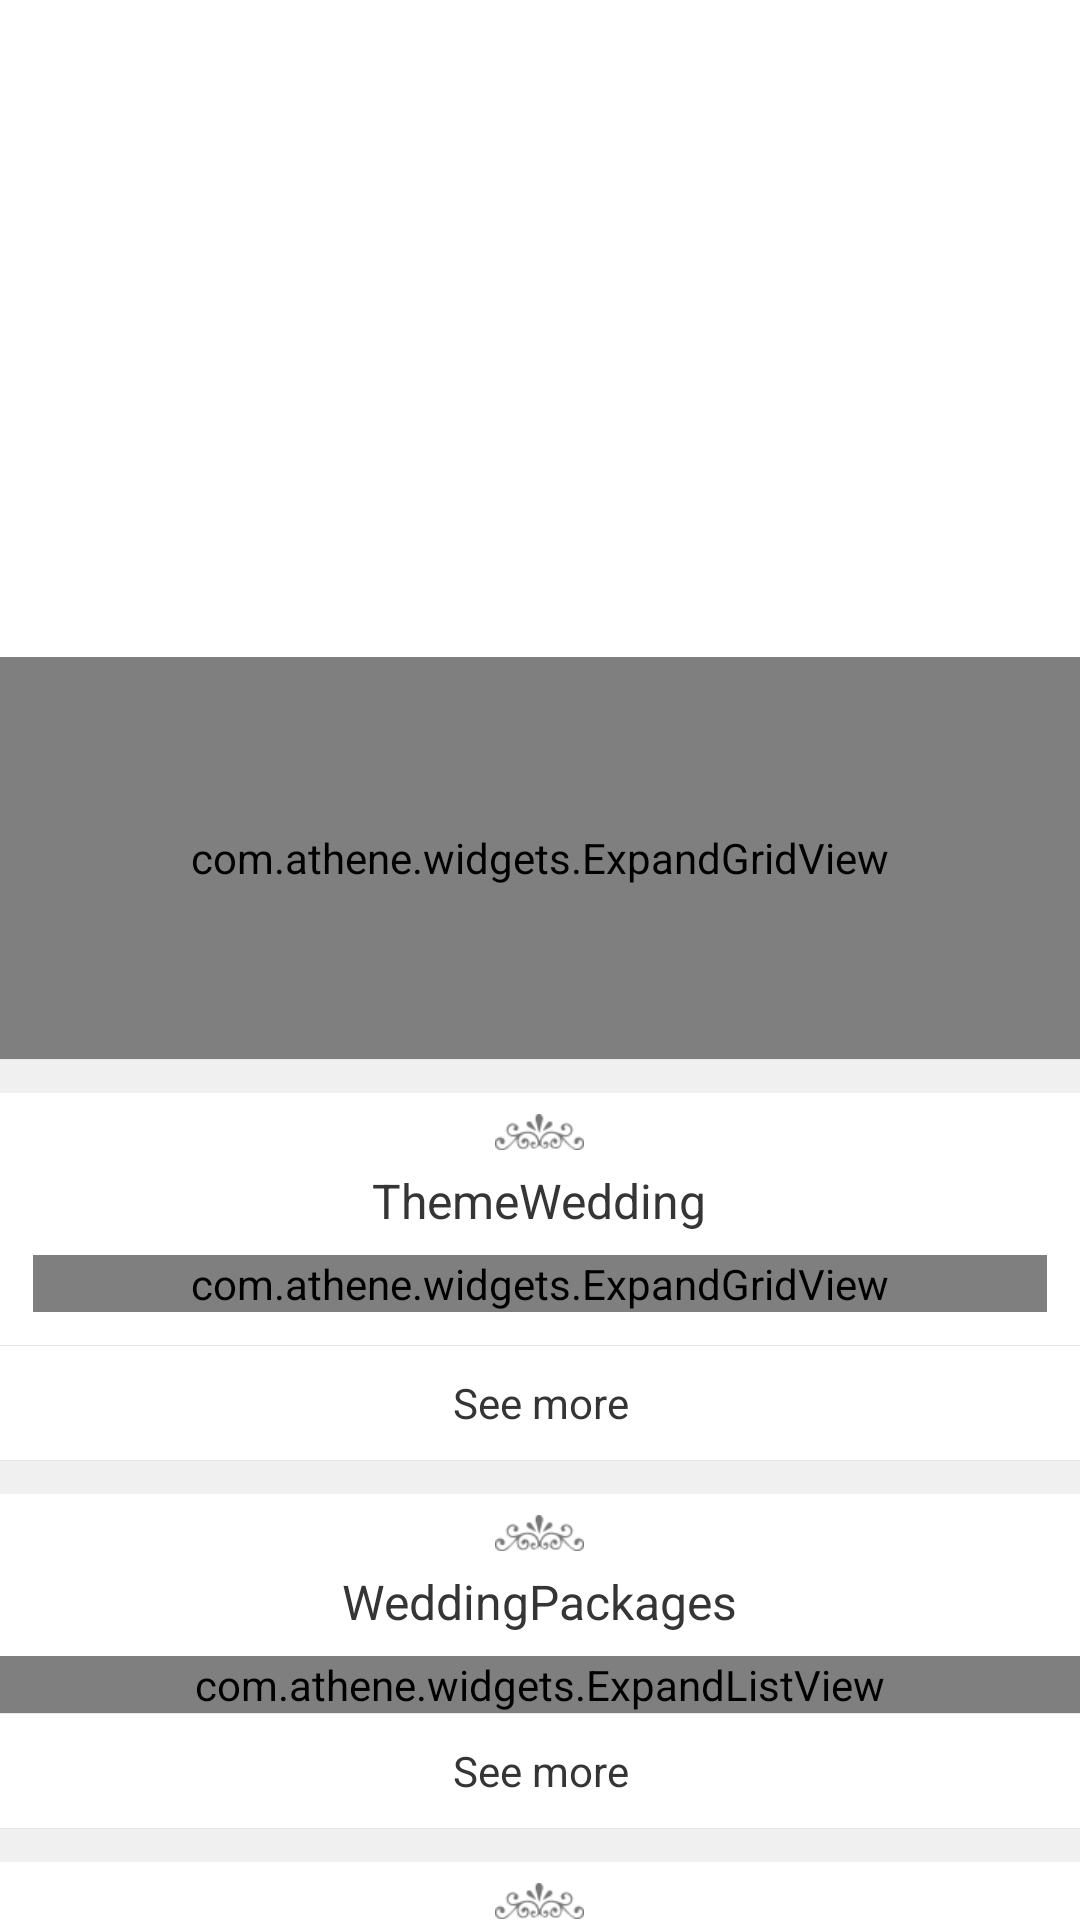

Point at icon controls on the screen. Image size 1080 x 1920, points as [x,y].
flower: [539,1132], [539,1533], [539,1901]
